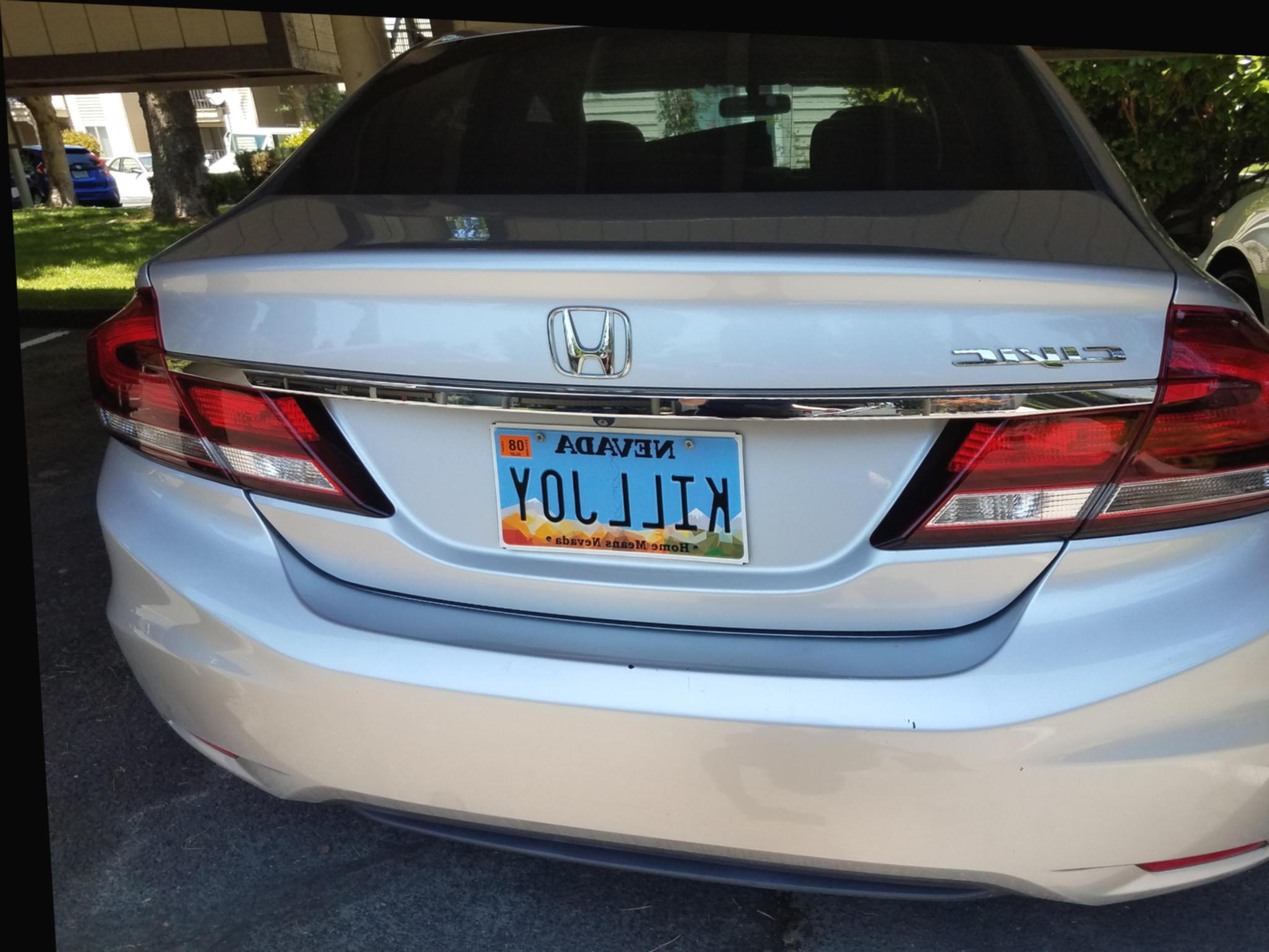License_Plate: (460, 402, 777, 582)
